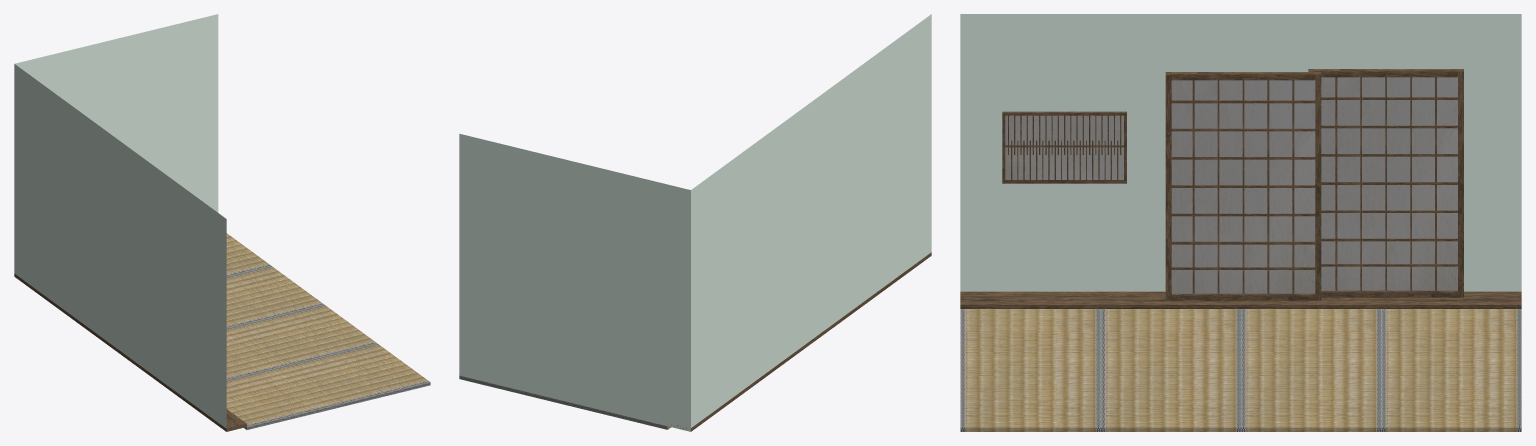
Rendered from japanese_shoji.glb.
3 renders of one model, left to right at view 1: azimuth 30°, elevation 25°; view 2: azimuth 150°, elevation 25°; view 3: azimuth 270°, elevation 25°, orthographic. The views are drawn at different scales.
Visible parts, largest first — view 1: Walls_8, Tatami_6, Wood_7; view 2: Walls_8, Wood_7, Tatami_6; view 3: Walls_8, Tatami_6, Door_Paper_L_2, Door_Paper_R_4, Door_Frame_L_3, Door_Frame_R_5, Wood_7, Window_Paper_0, Window_Frame_1.
Boxes of the visible parts, left/top/right/bottom form: Walls_8: left=14, top=14, right=226, bottom=428; Tatami_6: left=226, top=233, right=430, bottom=429; Wood_7: left=14, top=274, right=246, bottom=431; Walls_8: left=459, top=14, right=931, bottom=431; Wood_7: left=671, top=252, right=931, bottom=431; Tatami_6: left=459, top=375, right=670, bottom=429; Walls_8: left=960, top=14, right=1521, bottom=291; Tatami_6: left=960, top=309, right=1521, bottom=431; Door_Paper_L_2: left=1171, top=80, right=1315, bottom=293; Door_Paper_R_4: left=1321, top=77, right=1457, bottom=290; Door_Frame_L_3: left=1165, top=72, right=1321, bottom=300; Door_Frame_R_5: left=1308, top=69, right=1463, bottom=297; Wood_7: left=960, top=291, right=1521, bottom=308; Window_Paper_0: left=1005, top=115, right=1123, bottom=179; Window_Frame_1: left=1002, top=111, right=1126, bottom=183.
Size of the model in its own units: 10 by 10.13 by 18.
4 materials, 3 textured.
